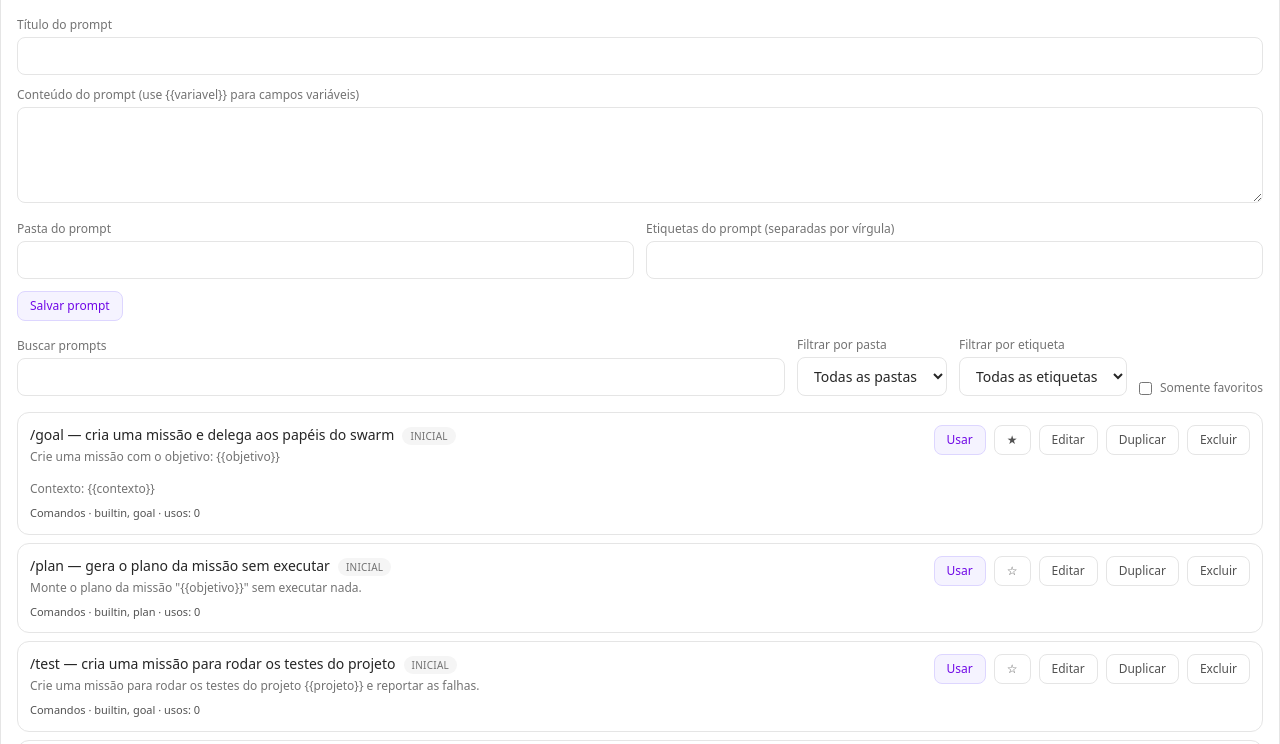
Test: PromptLibraryPanel › usa um prompt sem variáveis e entrega o texto ao consumidor
The width and height of the screenshot is (1280, 744).
Step 1. Type "Resumo simples" into the field labelled "Título do prompt" → [640, 56], box [17, 37, 1263, 75]
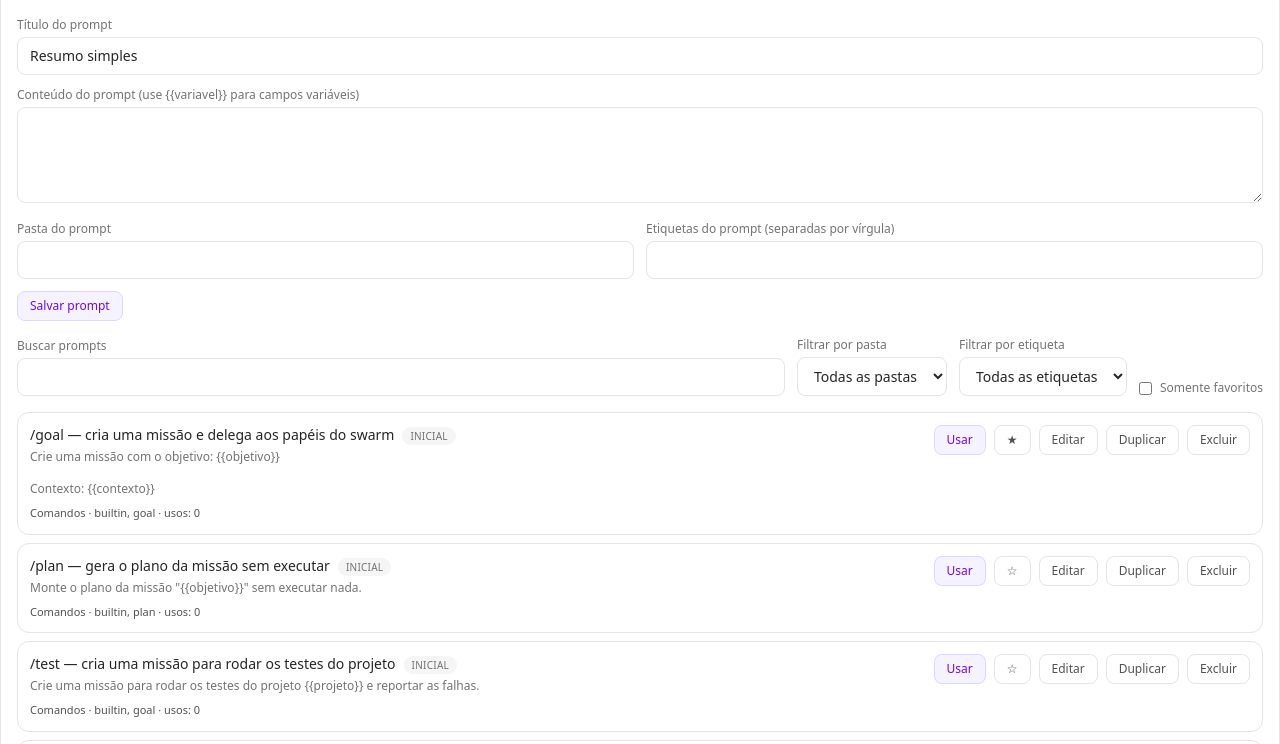
Step 2. Type "Resuma em três pontos objetivos." into the text box labelled "Conteúdo do prompt (use {{variavel}} para campos variáveis)" → [640, 155], box [17, 107, 1263, 203]
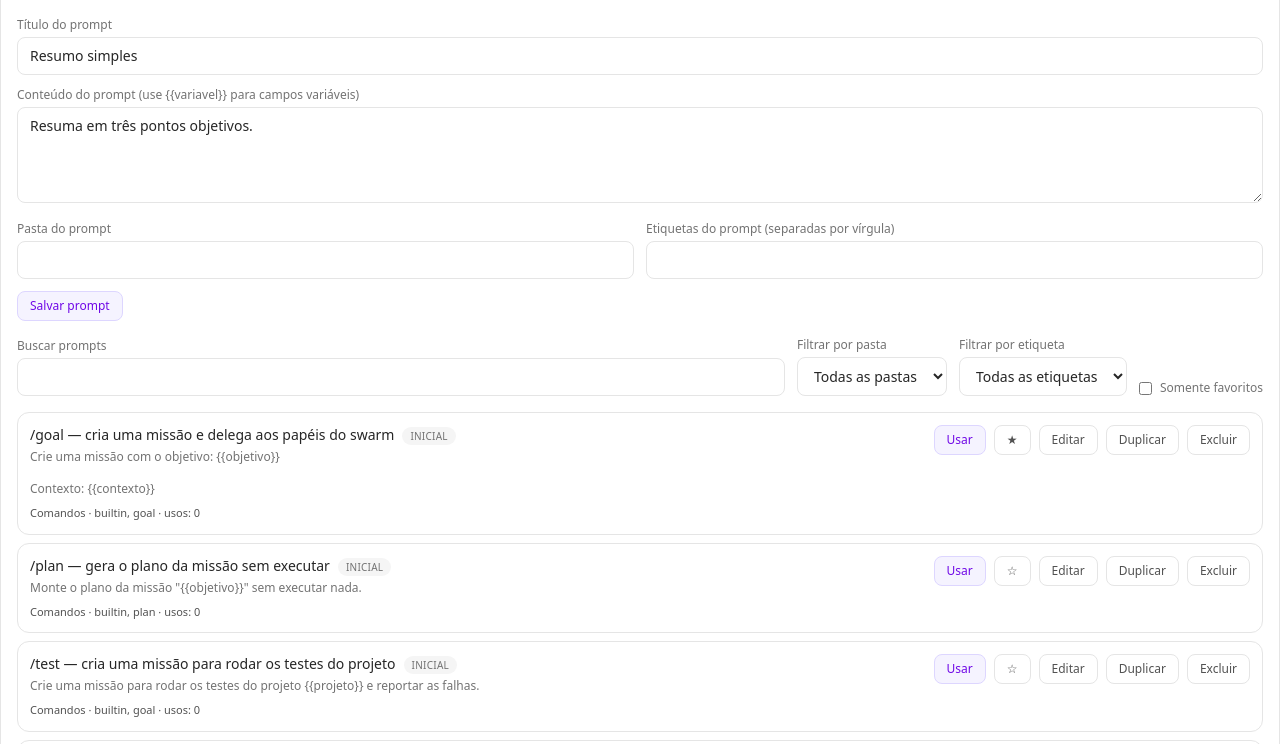
Step 3. Submit the form, box [17, 17, 1263, 321]
(page scrolled)
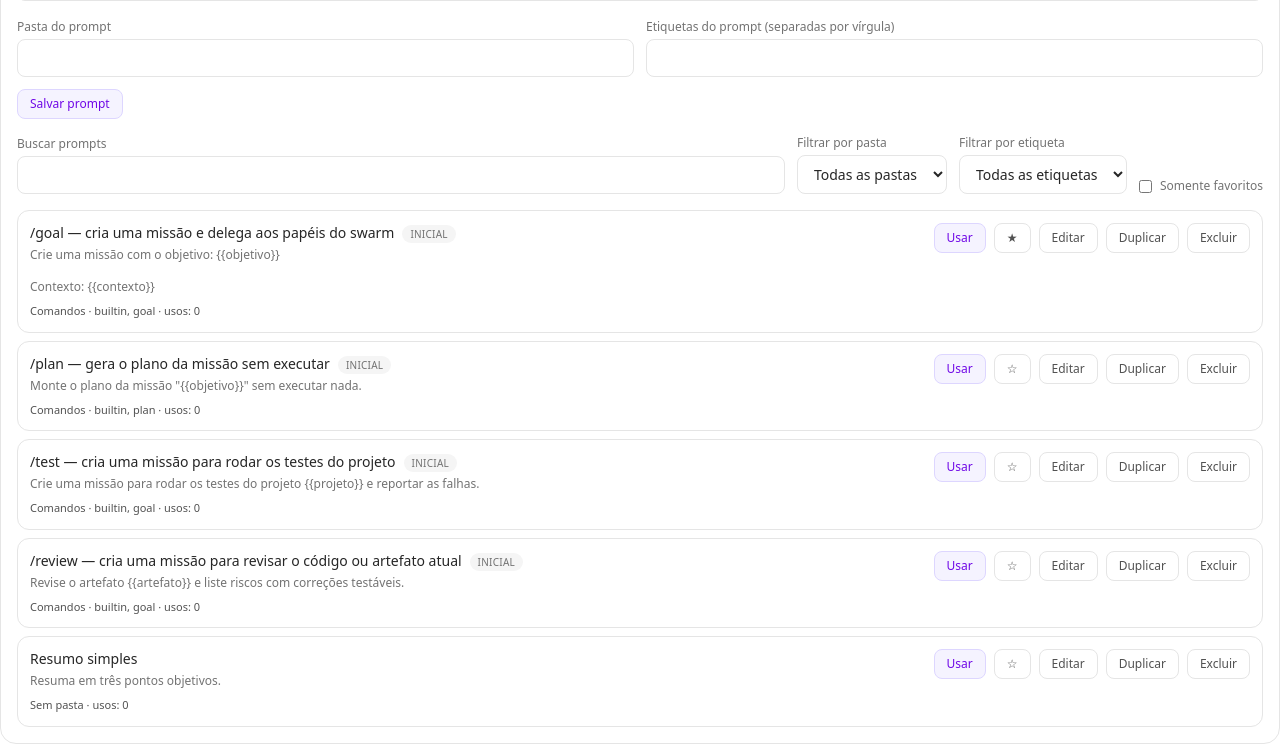
Step 4. Click the button "Usar" in the row of "Resuma em três pontos objetivos." → [960, 664], box [934, 649, 986, 679]
(page scrolled)
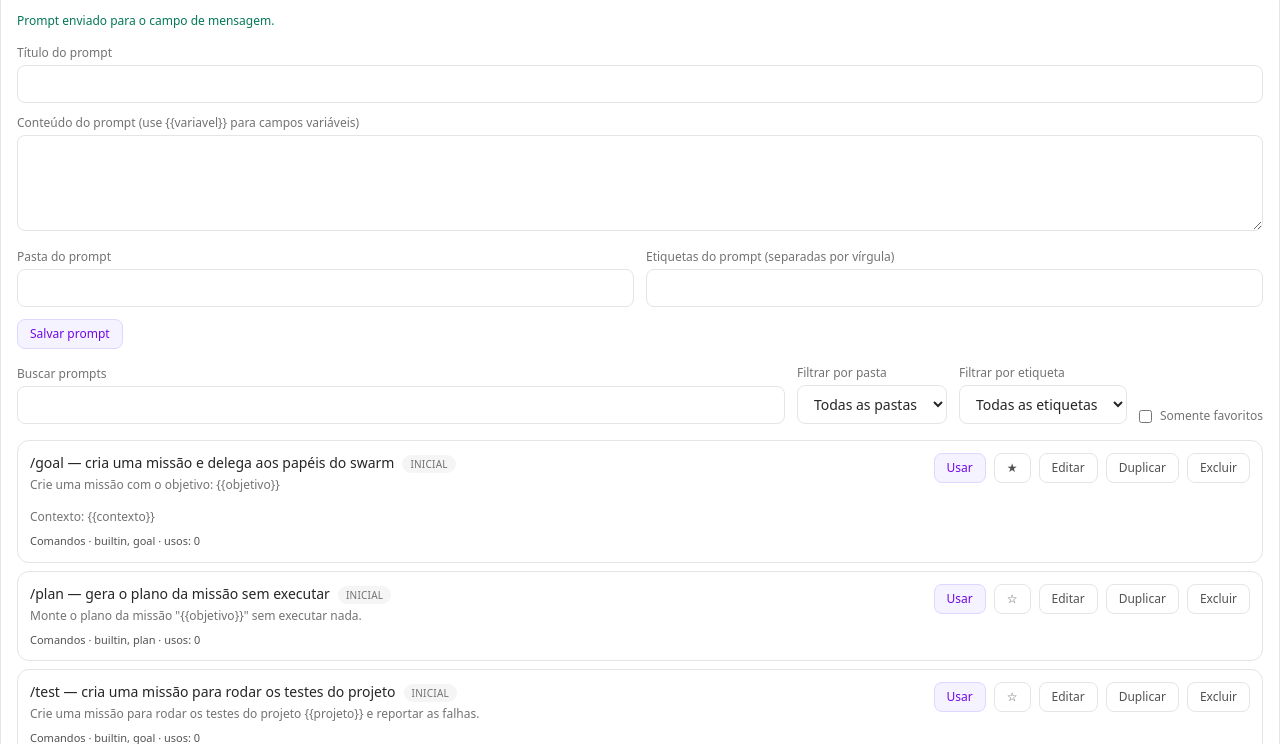
Result: the message "Prompt enviado para o campo de mensagem." is shown at [17, 12, 274, 29]
